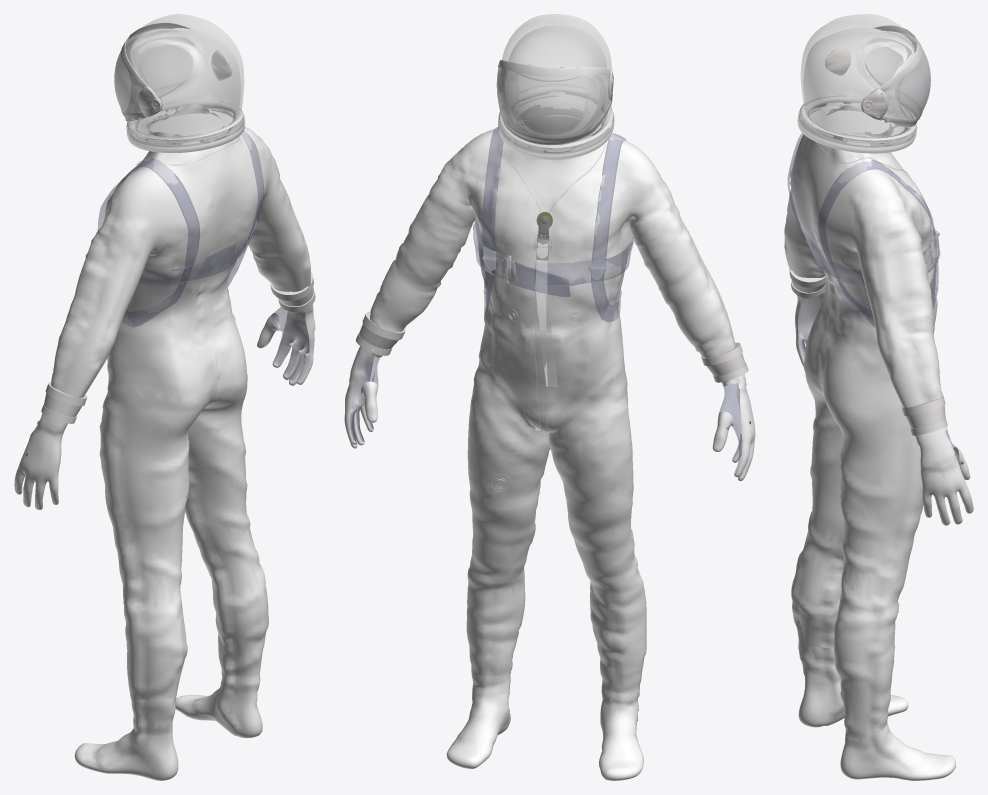
File: mercurysuit.glb
3 renders of one model, left to right at view 1: azimuth 30°, elevation 25°; view 2: azimuth 150°, elevation 25°; view 3: azimuth 270°, elevation 25°, orthographic.
Parts seen in each view (by area): view 1: Mercury Spacesuit; view 2: Mercury Spacesuit; view 3: Mercury Spacesuit.
Part boxes in pixels (bbox=[...]): Mercury Spacesuit: bbox=[14, 14, 315, 780]; Mercury Spacesuit: bbox=[344, 14, 755, 780]; Mercury Spacesuit: bbox=[784, 14, 973, 780].
Size of the model in its own units: 0.9948 by 2 by 0.4718.
Materials: 6 (6 with a texture image).
